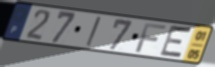2: (24, 9, 51, 42)
7: (51, 9, 78, 45), (109, 17, 135, 51)
E: (158, 24, 194, 61)
F: (133, 22, 168, 54)
I: (84, 15, 103, 48)
